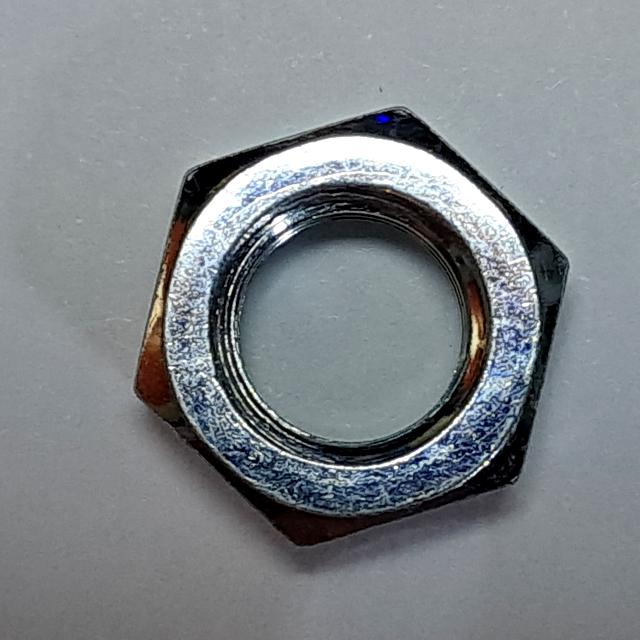Excellent: (117, 89, 587, 567)
